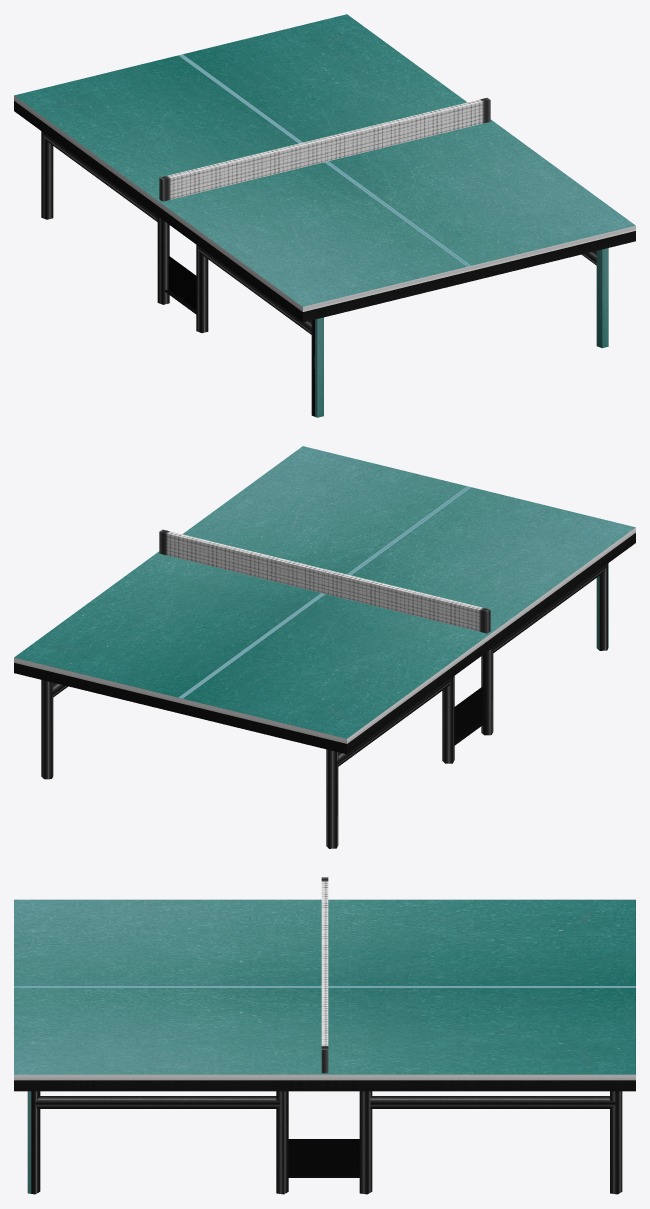
Rendered from pingpongtable.gltf.
3 views of the same model, one above another, from view 1: azimuth 30°, elevation 25°; view 2: azimuth 150°, elevation 25°; view 3: azimuth 270°, elevation 25° (orthographic). The views are drawn at different scales.
Parts seen in each view (by area): view 1: Cube; view 2: Cube; view 3: Cube.
Boxes of the visible parts, x1,y1,x2,y2 form: Cube: [14, 14, 635, 417]; Cube: [14, 446, 635, 848]; Cube: [14, 877, 635, 1194].
Size of the model in its own units: 3.99 by 1.63 by 5.99.
1 material, 1 textured.
